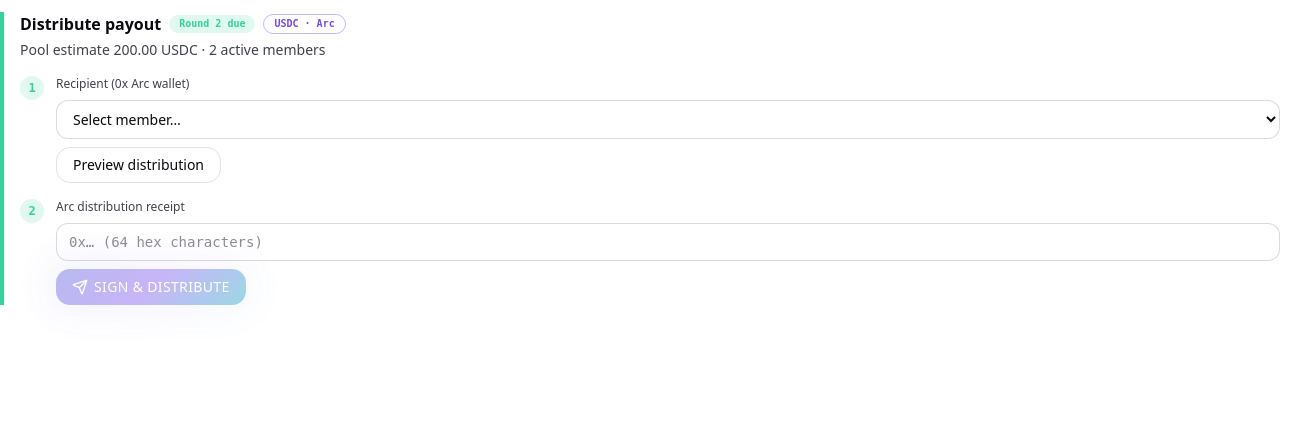
Scenario: CirclePayoutTrigger › previews the distribution via the real preview endpoint
The width and height of the screenshot is (1292, 443).
Select "Alice · 0x742d...f44e" in the dropdown labelled "Recipient (0x Arc wallet)": (668, 120) [56,100,1280,139]
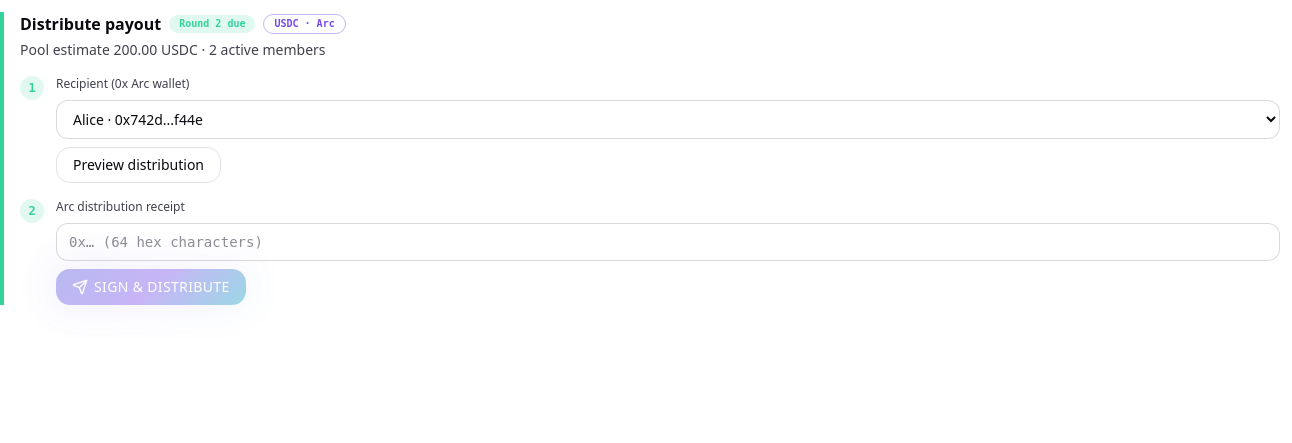
Click the button "Preview distribution": (138, 165) [56,147,221,183]
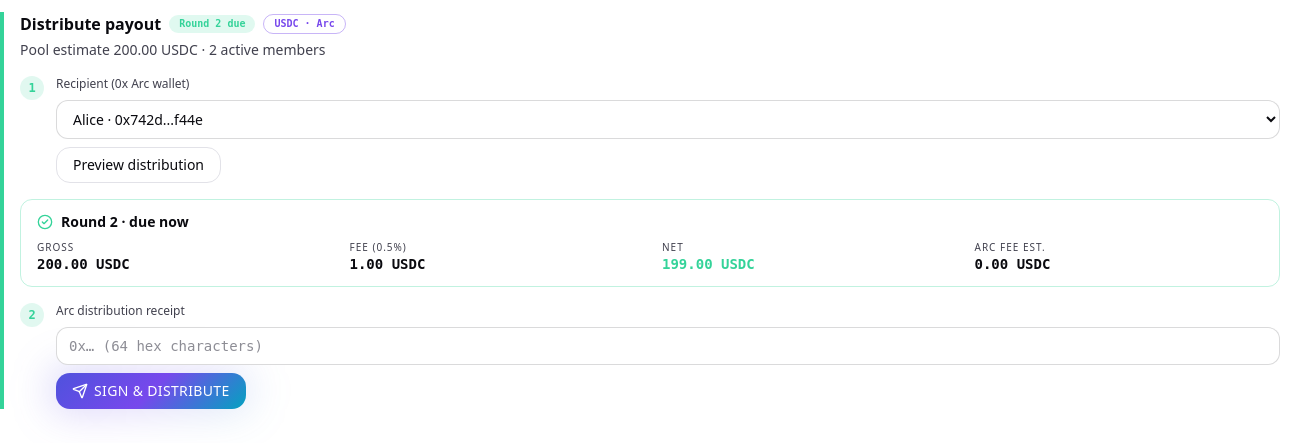
Result: the list item with test id "payout-preview" is shown at [20,199,1280,287]
Result: the text "Round 2 · due now" is shown at [61,212,189,232]
